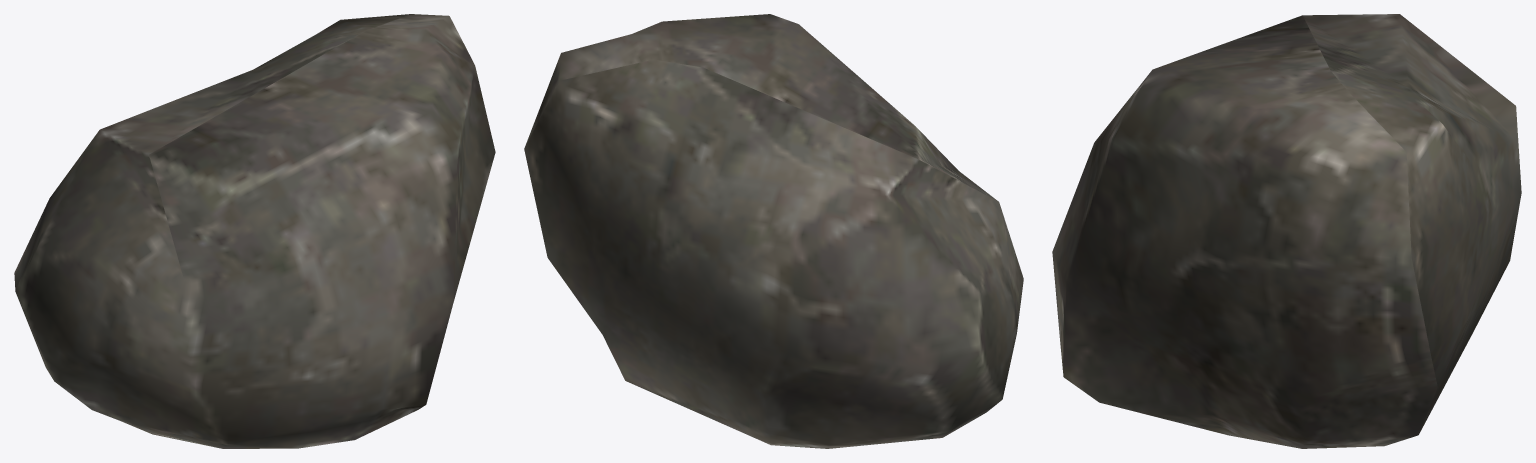
The model's file is SC_SLstone16.FBX.
3 renders of one model, left to right at view 1: azimuth 30°, elevation 25°; view 2: azimuth 150°, elevation 25°; view 3: azimuth 270°, elevation 25°, orthographic. The views are drawn at different scales.
Visible parts, largest first — view 1: SC_SLstone16; view 2: SC_SLstone16; view 3: SC_SLstone16.
Boxes of the visible parts, x1,y1,x2,y2 form: SC_SLstone16: (14, 14, 495, 448); SC_SLstone16: (524, 14, 1023, 448); SC_SLstone16: (1052, 14, 1521, 448).
Bounding box in the file's own units: 128 × 87.11 × 99.69.
